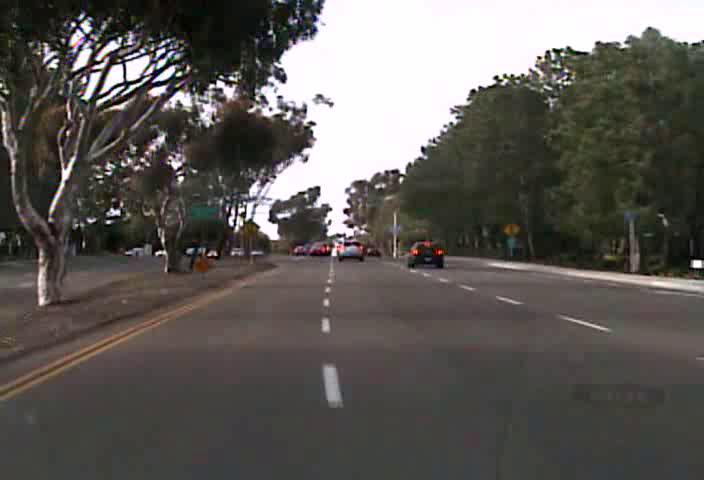signalAhead: (503, 221, 520, 239)
